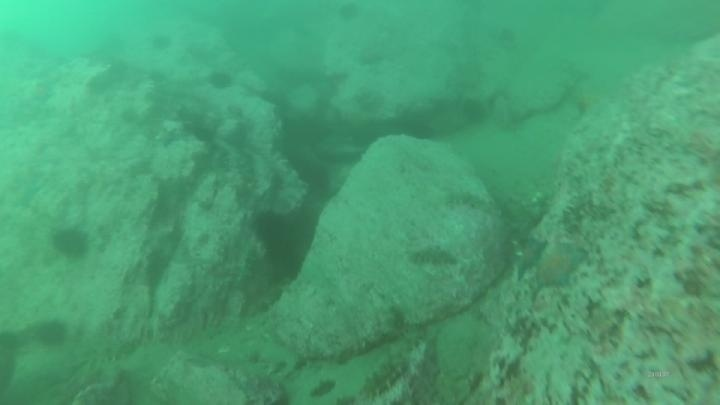echinus: (250, 209, 292, 251), (50, 225, 92, 261), (33, 318, 70, 350), (459, 96, 490, 127), (206, 68, 235, 92), (148, 31, 174, 53)
holothurian: (358, 349, 411, 402), (406, 243, 460, 269), (444, 189, 493, 216)
starfish: (534, 241, 588, 290), (510, 234, 550, 280), (24, 76, 59, 107)
